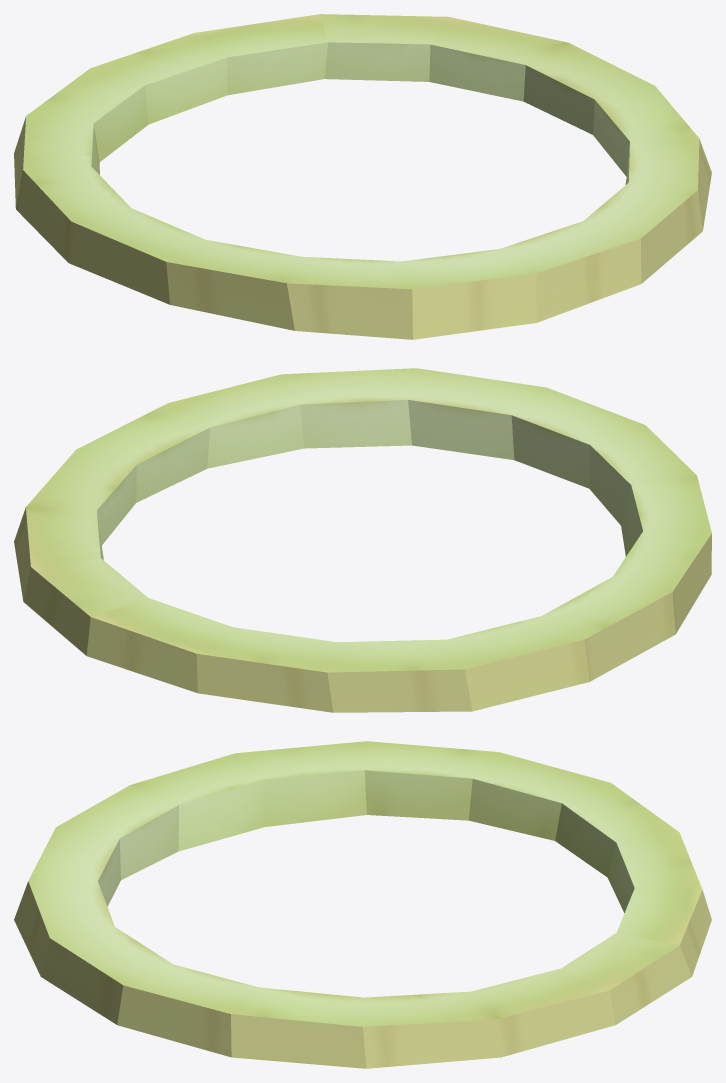
File: OnionRing.fbx
3 renders of one model, top to bottom at view 1: azimuth 30°, elevation 25°; view 2: azimuth 150°, elevation 25°; view 3: azimuth 270°, elevation 25°, orthographic. The views are drawn at different scales.
Parts seen in each view (by area): view 1: OnionRing; view 2: OnionRing; view 3: OnionRing.
Part boxes in pixels (x1,y1,x2,y2): OnionRing: (14,14,711,339); OnionRing: (14,368,711,712); OnionRing: (14,741,711,1068).
Size of the model in its own units: 13.63 by 0.9412 by 13.92.
